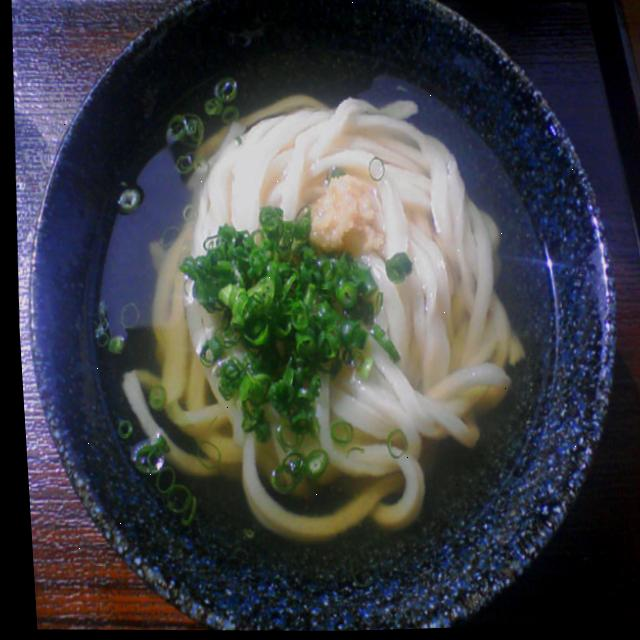面条主食: (52, 0, 590, 615)
